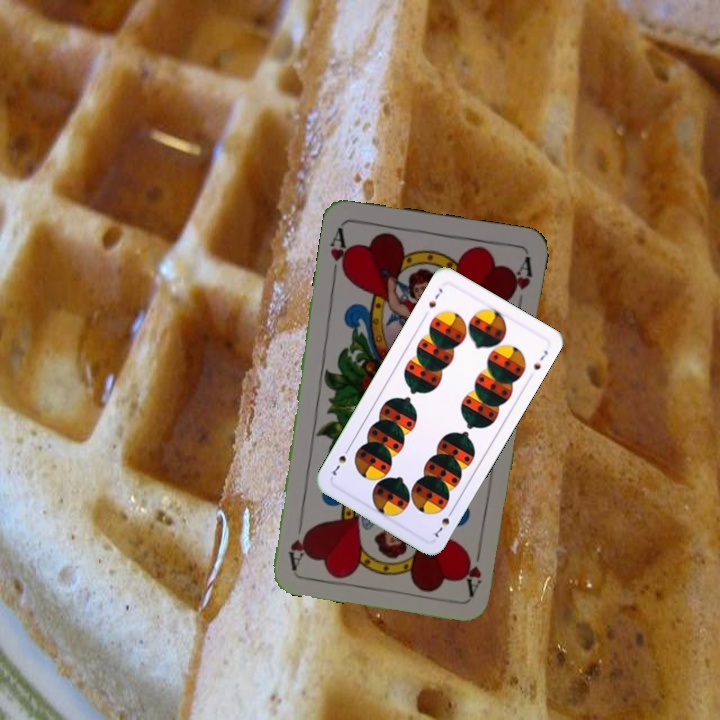HA: (326, 223, 353, 282), (461, 538, 485, 597)
S7: (428, 505, 456, 540), (424, 284, 445, 310)
